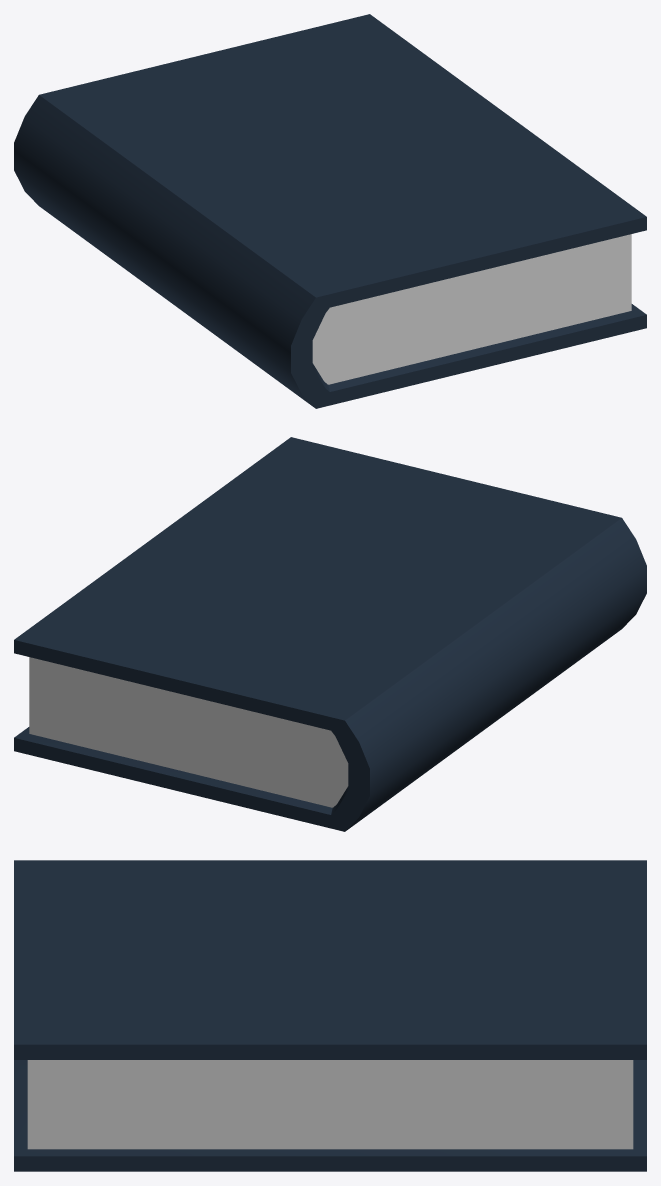
Rendered from mk_book_5.glb.
3 renders of one model, top to bottom at view 1: azimuth 30°, elevation 25°; view 2: azimuth 150°, elevation 25°; view 3: azimuth 270°, elevation 25°, orthographic. The views are drawn at different scales.
Parts seen in each view (by area): view 1: Book_5; view 2: Book_5; view 3: Book_5.
Part boxes in pixels (x1=…): Book_5: x1=14, y1=14, x2=646, y2=408; Book_5: x1=14, y1=437, x2=646, y2=831; Book_5: x1=14, y1=860, x2=646, y2=1171.
Bounding box in the file's own units: 0.2129 × 0.0636 × 0.2871.
